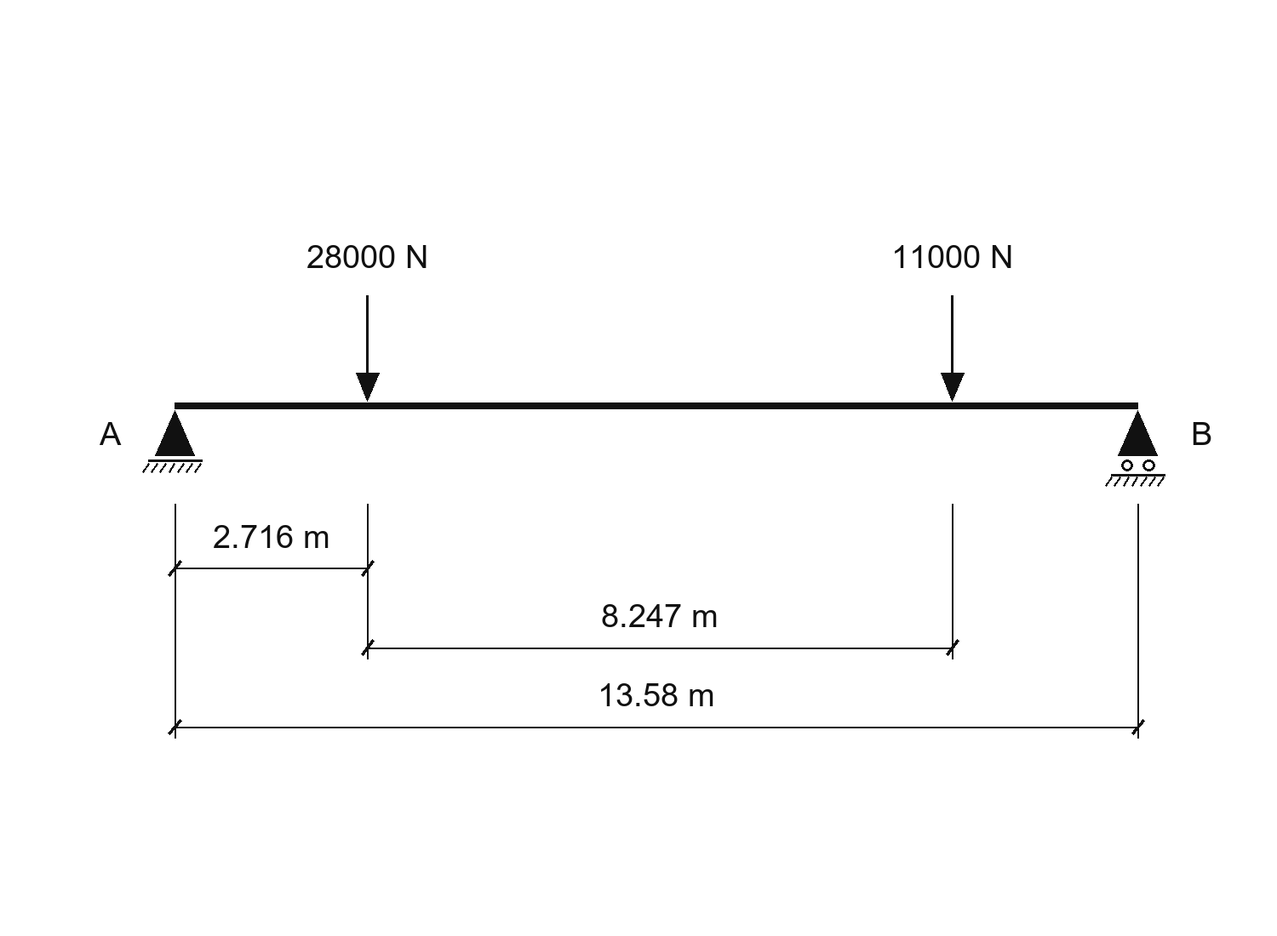pin_support: (142, 410, 203, 473)
point_load: (356, 295, 380, 402), (941, 295, 965, 402)
roller_support: (1105, 410, 1165, 487)
